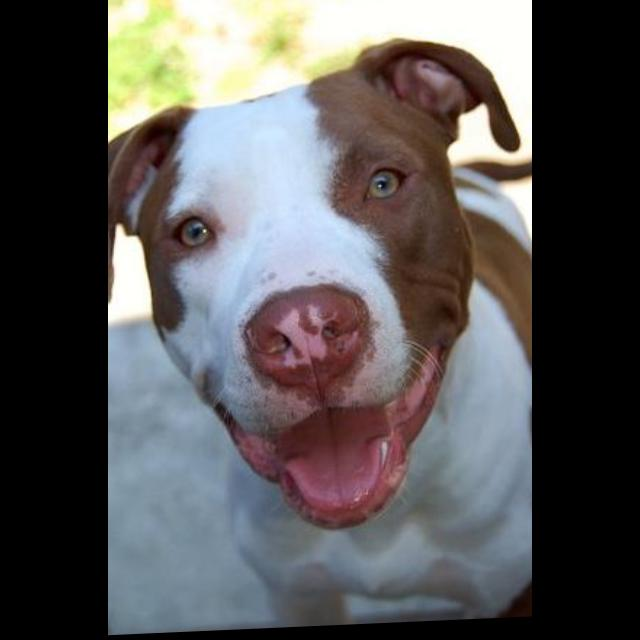amstaff: (109, 35, 533, 637)
